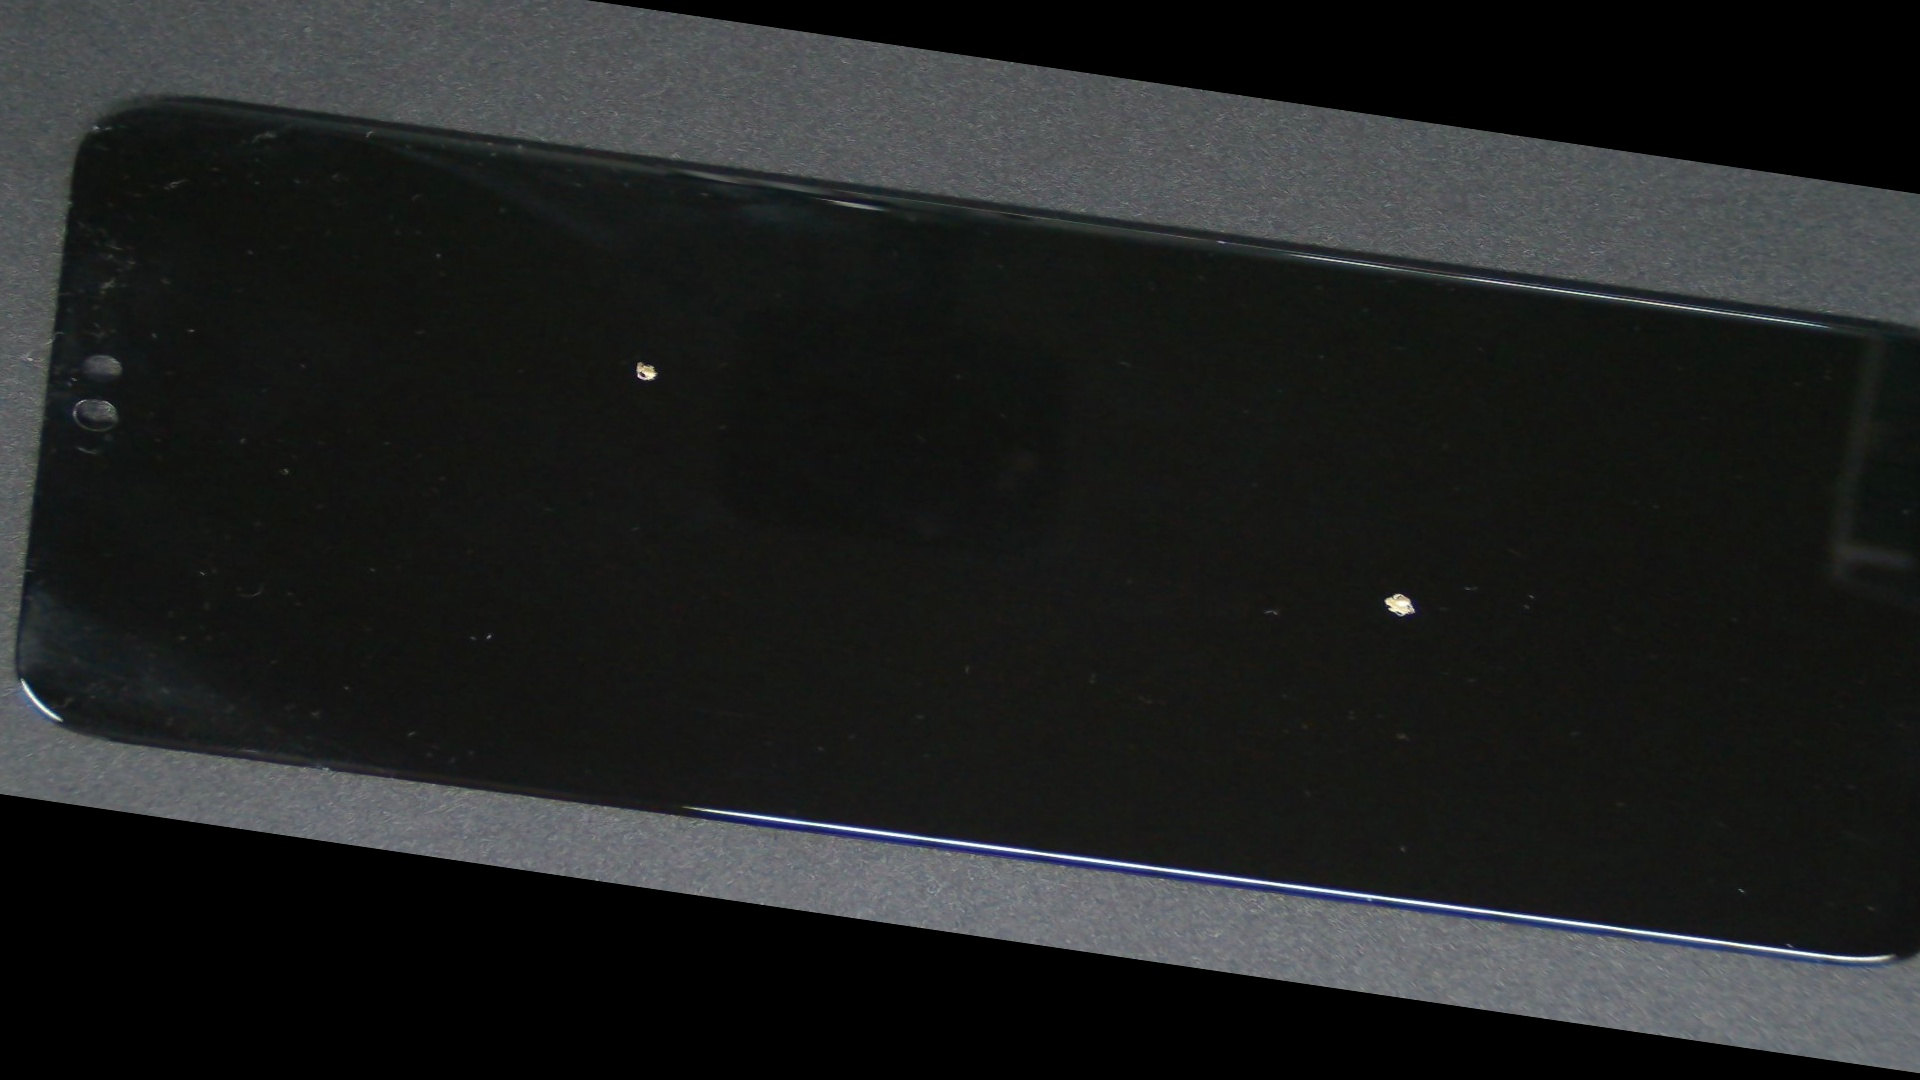oil: (618, 251, 1920, 923), (257, 135, 1022, 585)
